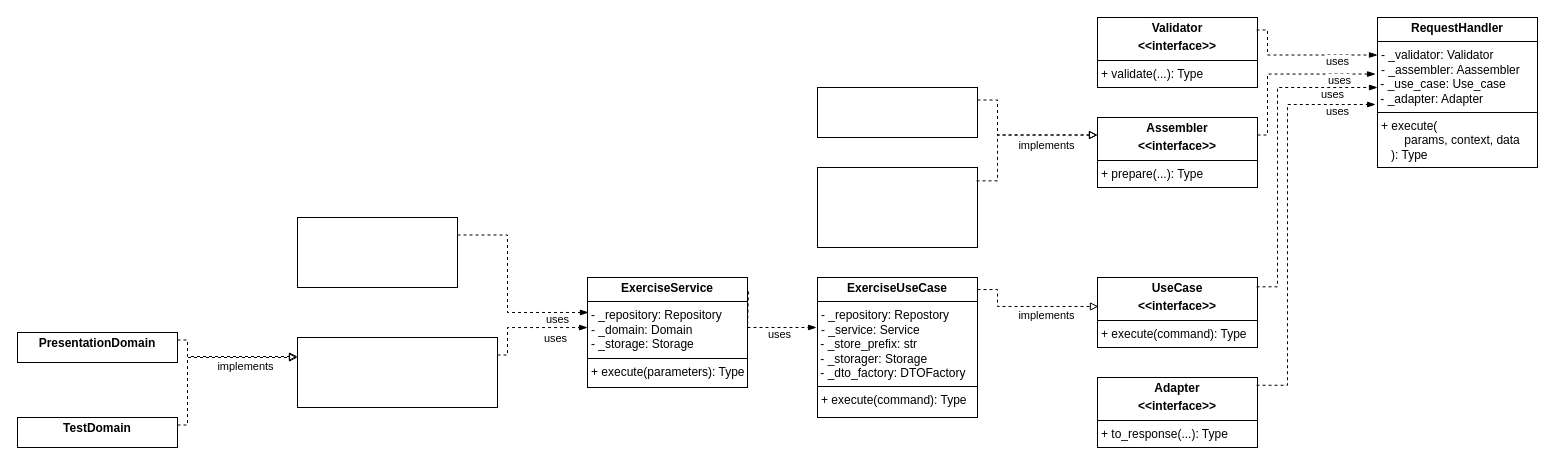
Image size: 1555x465. Some labels were removed from this diagram. Each missing label, with the box of its shape:
Assembler + prepare(...): Type: (816, 86, 978, 138)
DataAssembler - _parser: Parser + prepare(command): Type: (816, 166, 978, 248)
Domain <<interface>> + execute(candidates, conf): Type: (296, 336, 498, 408)
Repository <<interface>> + fetch(...): Type: (296, 216, 458, 288)
